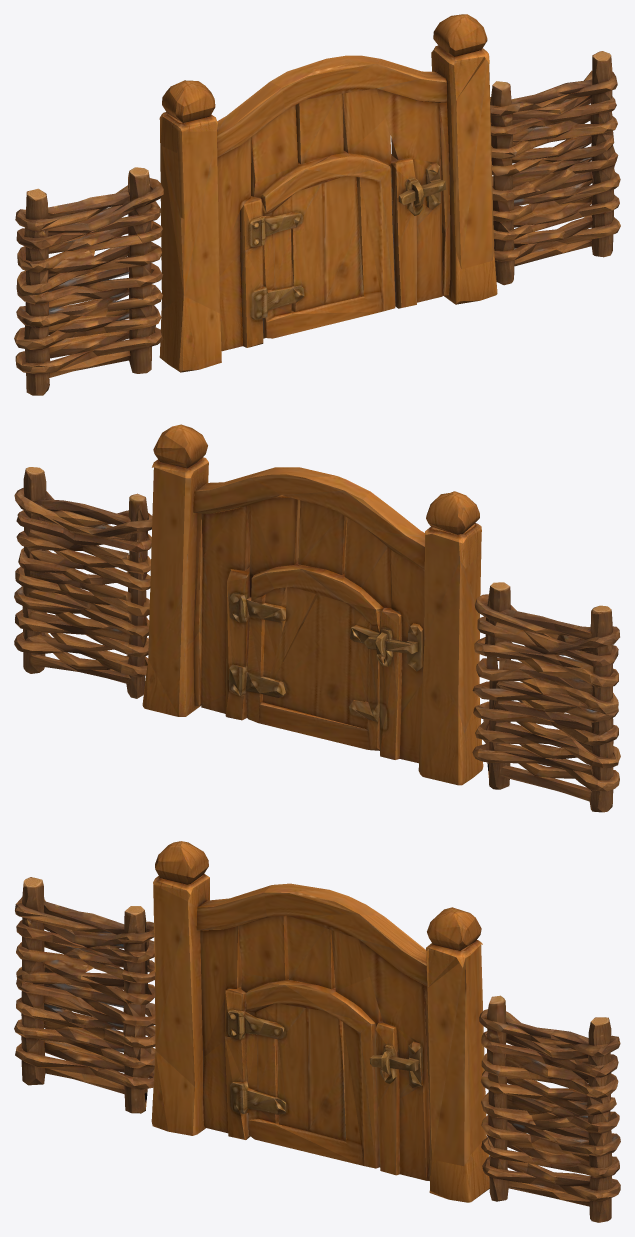
File: gate.glb
3 renders of one model, top to bottom at view 1: azimuth 30°, elevation 25°; view 2: azimuth 150°, elevation 25°; view 3: azimuth 330°, elevation 25°, orthographic.
Visible parts, largest first — view 1: output_unwrapped; view 2: output_unwrapped; view 3: output_unwrapped.
Boxes of the visible parts, <box> form: output_unwrapped: <box>14,14,620,395</box>; output_unwrapped: <box>14,424,620,812</box>; output_unwrapped: <box>14,841,620,1222</box>.
Bounding box in the file's own units: 1.9 × 0.8476 × 0.1681.
Materials: 1 (1 with a texture image).
